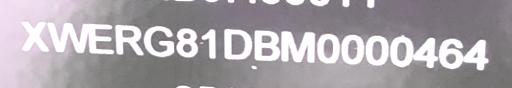letter: (45, 20, 89, 53), (279, 28, 317, 64), (141, 23, 175, 57), (221, 26, 253, 62), (112, 22, 144, 56), (251, 27, 281, 63), (86, 22, 116, 55), (461, 36, 491, 69), (410, 33, 438, 68), (20, 20, 50, 52), (436, 35, 464, 69), (364, 32, 390, 67), (315, 31, 341, 65), (388, 33, 414, 67), (340, 32, 364, 66), (174, 26, 198, 58), (200, 27, 220, 59)
